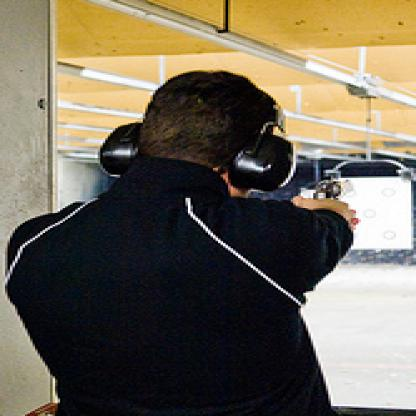gun: (306, 171, 356, 213)
